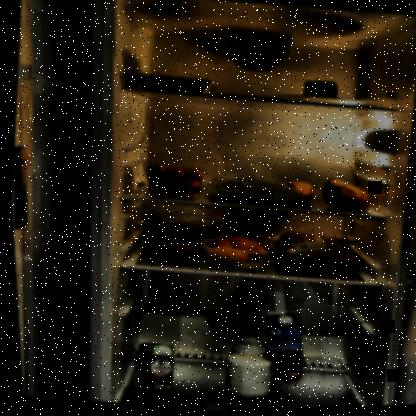cheese: (300, 78, 340, 105)
chicken: (265, 227, 361, 277)
corn: (131, 342, 166, 374)
green_beans: (196, 172, 310, 214)
heavy_cream: (140, 343, 172, 392)
milk: (254, 310, 304, 383)
potato: (198, 232, 269, 270)
shrimp: (146, 236, 199, 261)
strawberries: (140, 162, 204, 203)
sweet_potato: (317, 177, 372, 217), (283, 178, 313, 202)
